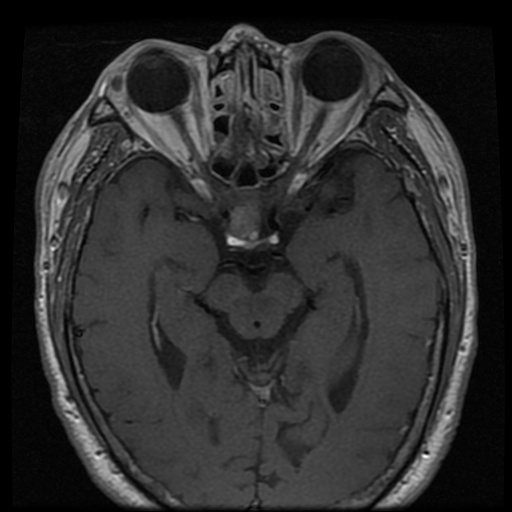pituitary: (230, 201, 261, 238)
